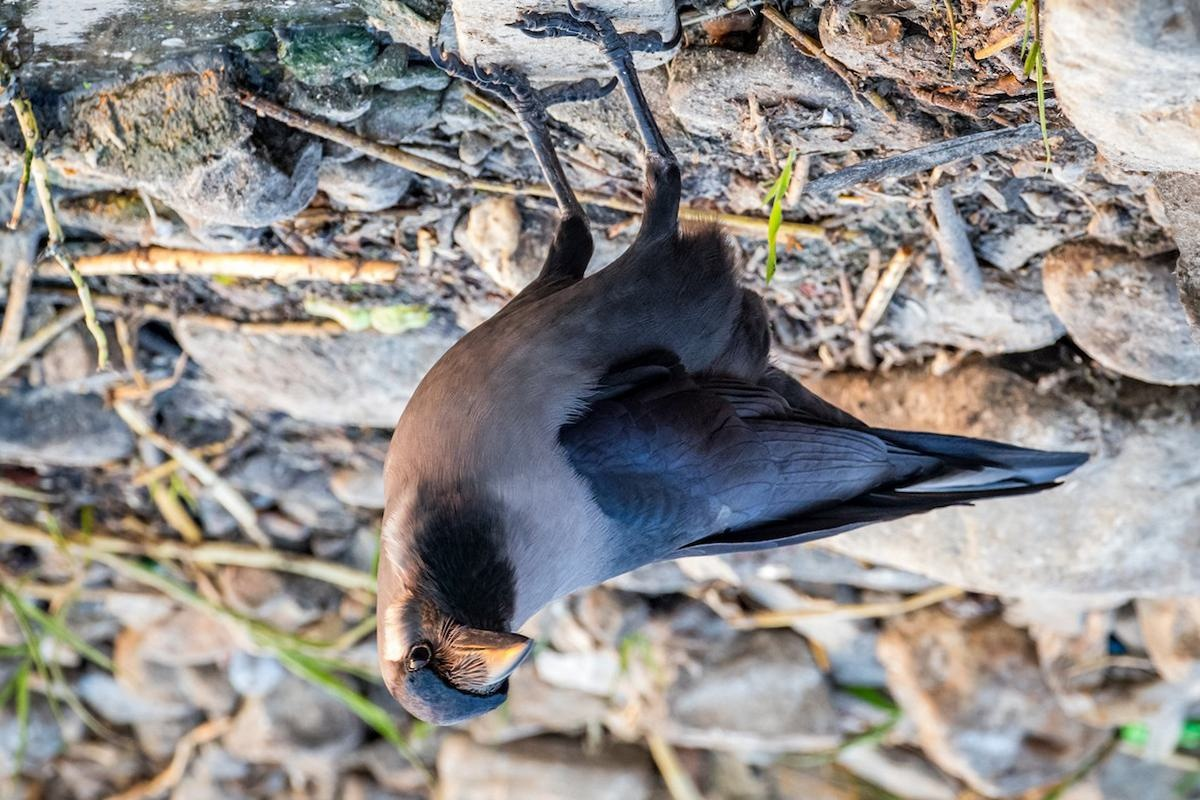crow: (347, 57, 1091, 743)
